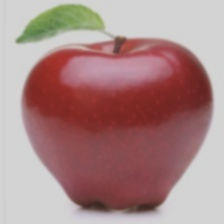apple: (56, 31, 206, 180)
